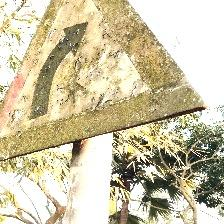Right-turn: (0, 1, 207, 163)
